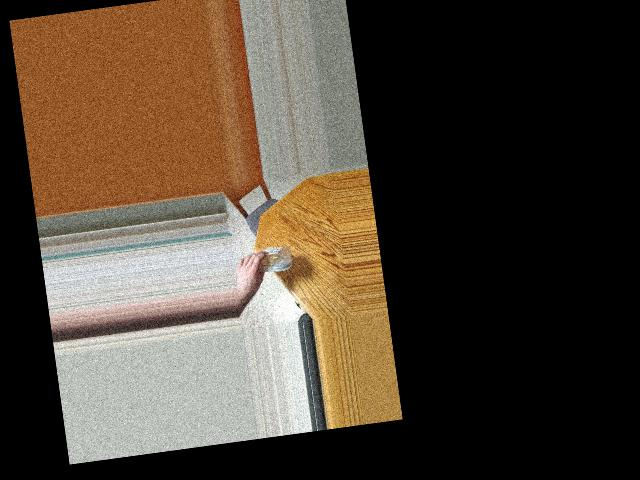cheese: (247, 237, 298, 284)
